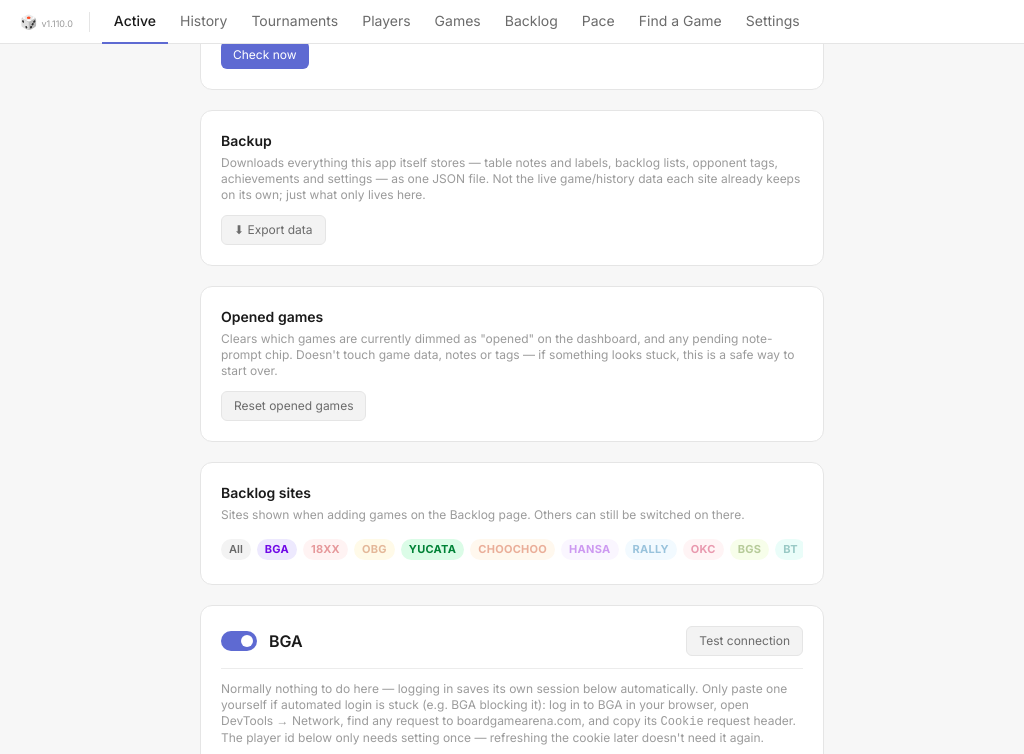
Test: Setup page: reset opened games › clears the stored opened-games state, leaving nothing behind
(page scrolled)
Step 1. Click the button "Reset opened games" → {"x": 294, "y": 406}, box [221,391,366,421]
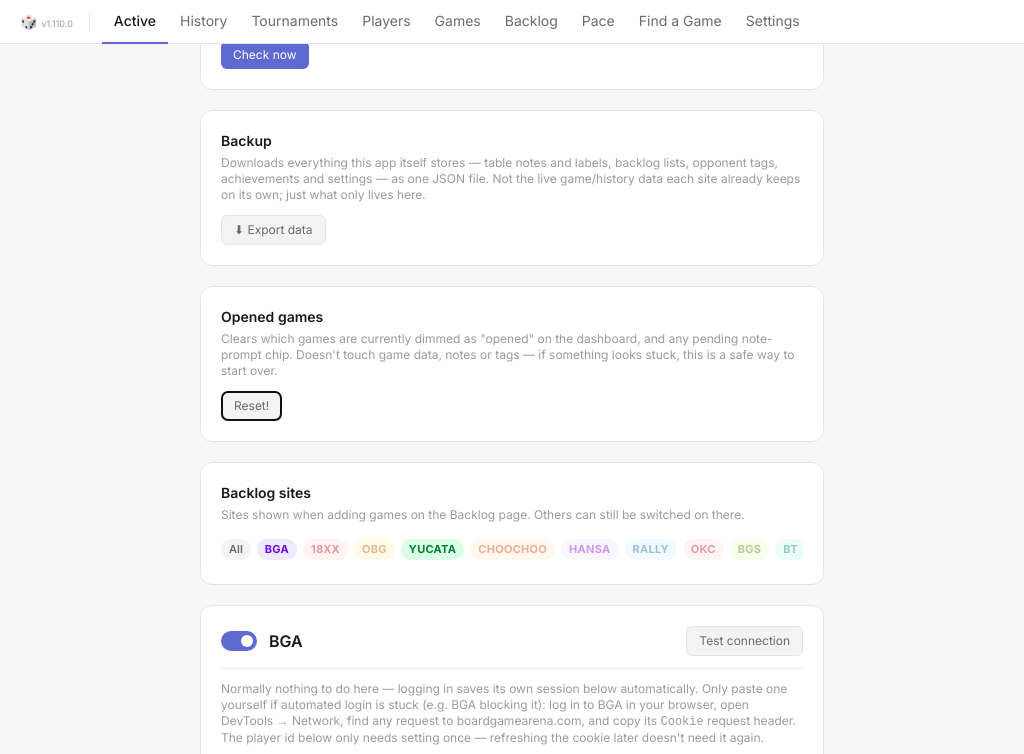
Now the button "Reset!" is shown, box [221,391,282,421]
